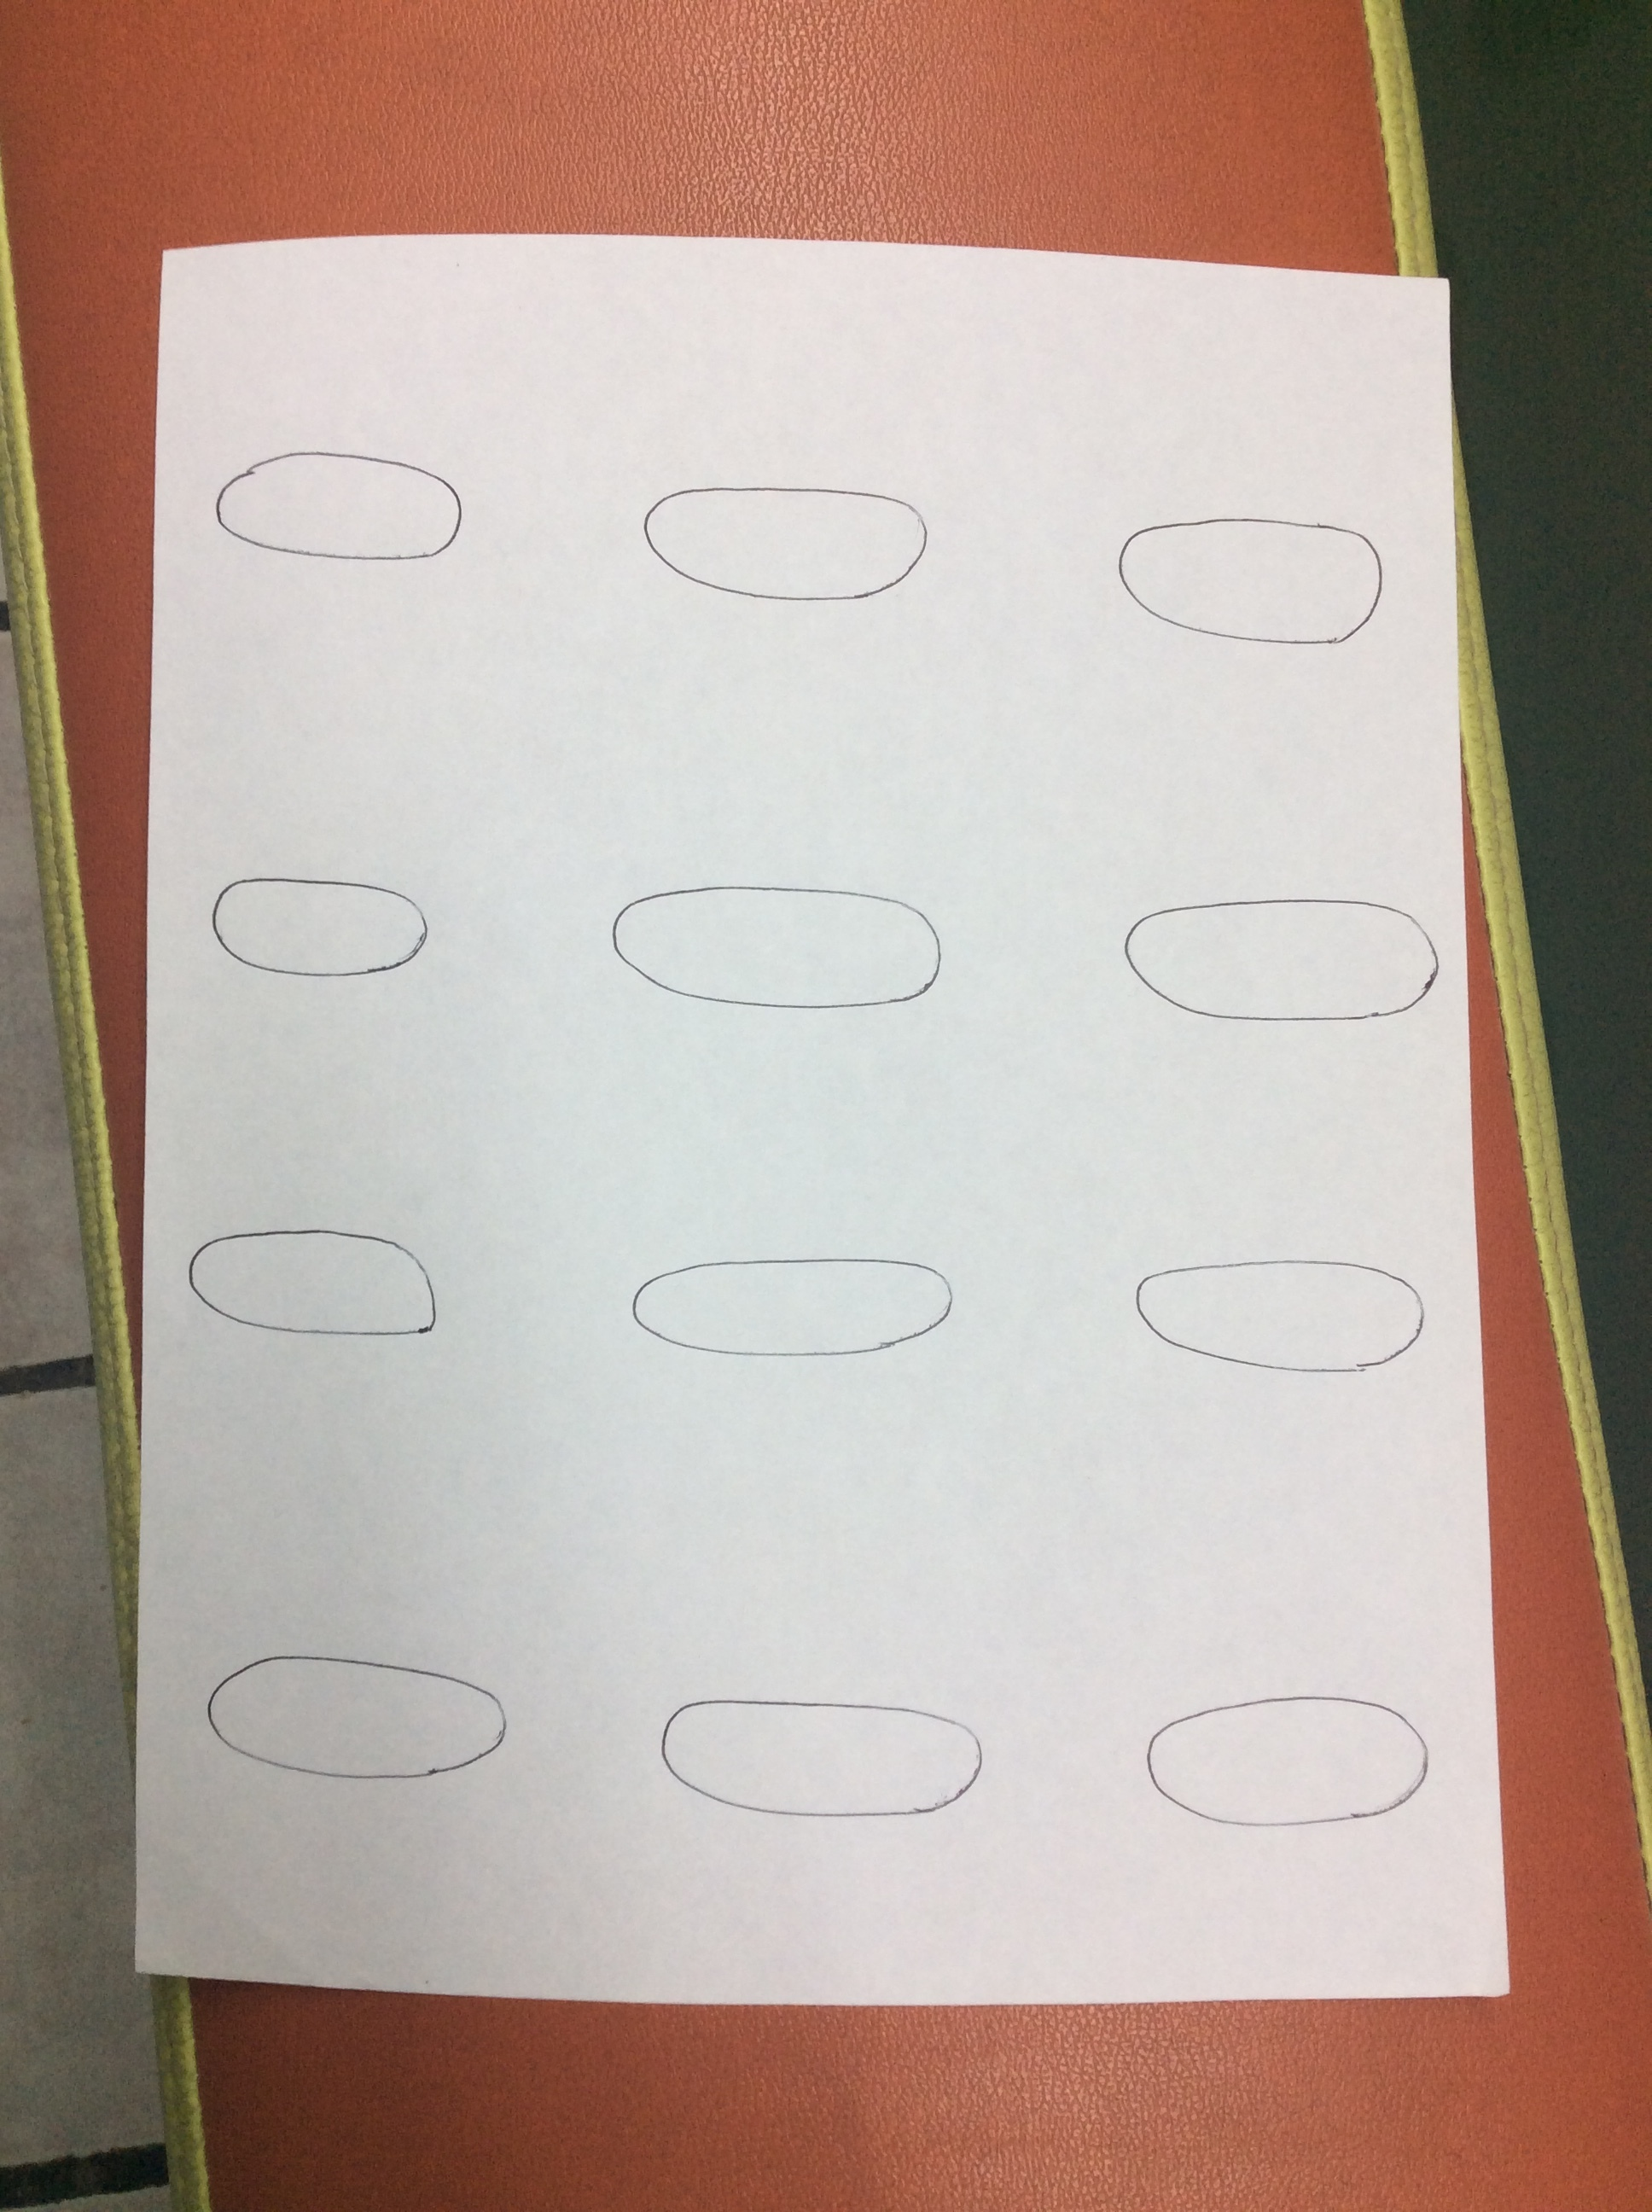start_end: (172, 1601, 524, 1827), (1071, 461, 1400, 699), (602, 1214, 1001, 1410), (609, 1655, 1001, 1849), (574, 850, 961, 1044), (606, 441, 954, 645), (1078, 861, 1452, 1044), (1131, 1645, 1452, 1856), (1104, 1221, 1442, 1410), (189, 416, 489, 607), (165, 1185, 460, 1376), (186, 840, 453, 1013)
